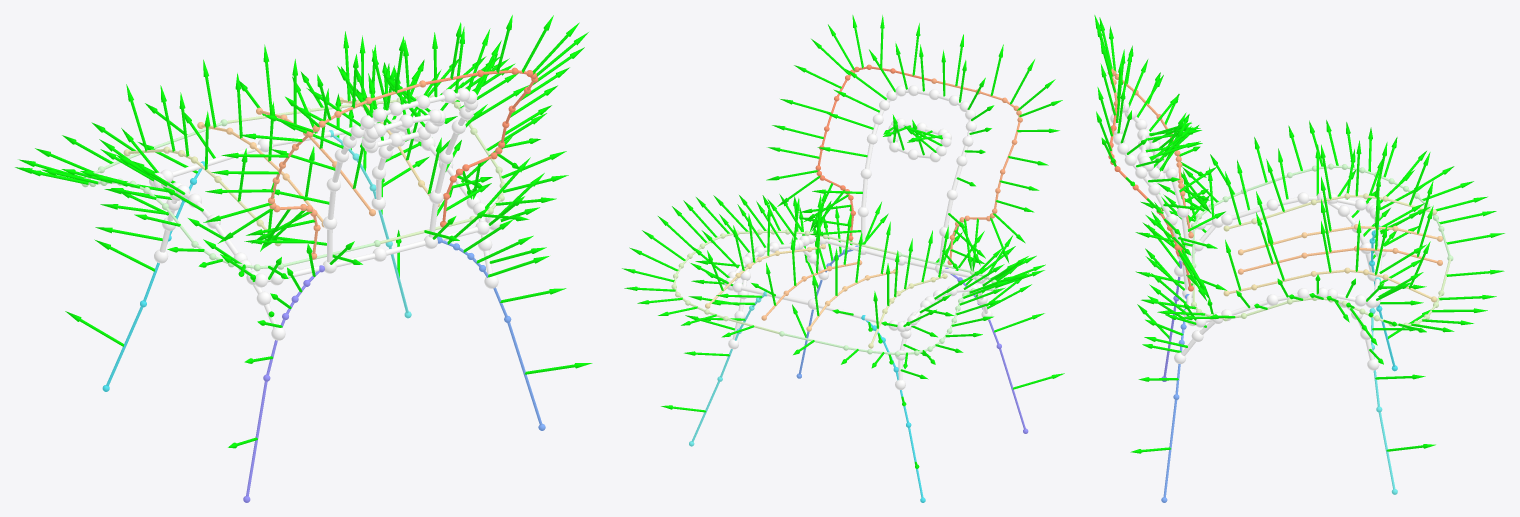
File: author1_chair.gltf
3 views of the same model, side by side, from view 1: azimuth 30°, elevation 25°; view 2: azimuth 150°, elevation 25°; view 3: azimuth 270°, elevation 25° (orthographic). The views are drawn at different scales.
Size of the model in its own units: 0.7398 by 0.7116 by 0.6778.
